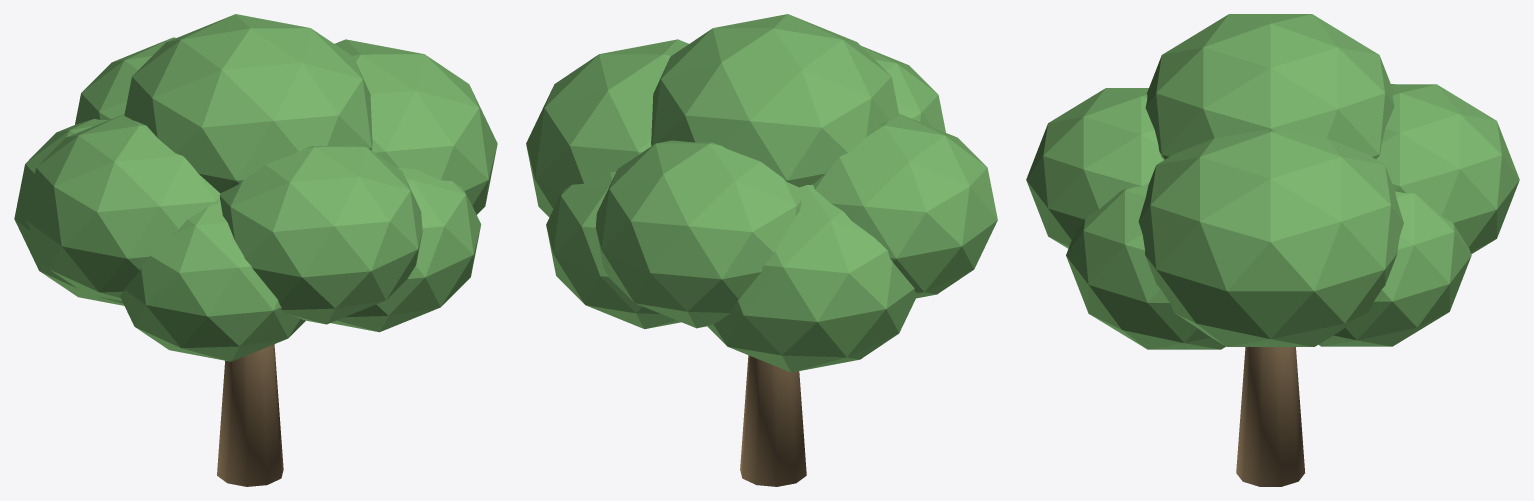
File: oak.glb
The picture shows the model from 3 angles, left to right: view 1: azimuth 30°, elevation 25°; view 2: azimuth 150°, elevation 25°; view 3: azimuth 270°, elevation 25°; orthographic projection.
Visible parts, largest first — view 1: Canopy_9, Canopy_8, Canopy_6, Canopy_4, Canopy_5, Canopy_3, Trunk, Canopy_7, Canopy_2; view 2: Canopy_9, Canopy_7, Canopy_2, Canopy_6, Canopy_5, Canopy_1, Trunk, Canopy_8; view 3: Canopy_5, Canopy_9, Canopy_7, Canopy_8, Canopy_3, Canopy_1, Trunk.
Boxes of the visible parts, left/top/right/bottom form: Canopy_9: left=124, top=14, right=372, bottom=193; Canopy_8: left=219, top=144, right=422, bottom=324; Canopy_6: left=26, top=114, right=220, bottom=300; Canopy_4: left=120, top=198, right=305, bottom=361; Canopy_5: left=335, top=39, right=497, bottom=214; Canopy_3: left=331, top=168, right=481, bottom=332; Trunk: left=217, top=344, right=283, bottom=486; Canopy_7: left=75, top=37, right=175, bottom=124; Canopy_2: left=14, top=119, right=124, bottom=305; Canopy_9: left=651, top=14, right=899, bottom=187; Canopy_7: left=595, top=140, right=801, bottom=328; Canopy_2: left=707, top=184, right=917, bottom=372; Canopy_6: left=813, top=114, right=997, bottom=298; Canopy_5: left=526, top=39, right=688, bottom=217; Canopy_1: left=546, top=172, right=680, bottom=329; Trunk: left=740, top=355, right=806, bottom=486; Canopy_8: left=861, top=46, right=945, bottom=132; Canopy_5: left=1138, top=130, right=1403, bottom=346; Canopy_9: left=1145, top=14, right=1394, bottom=159; Canopy_7: left=1376, top=84, right=1519, bottom=253; Canopy_8: left=1026, top=88, right=1163, bottom=248; Canopy_3: left=1066, top=182, right=1225, bottom=349; Canopy_1: left=1318, top=191, right=1471, bottom=346; Trunk: left=1236, top=347, right=1304, bottom=486.
Size of what is drawn, in the model's own units: 11.71 by 11.49 by 11.44.
